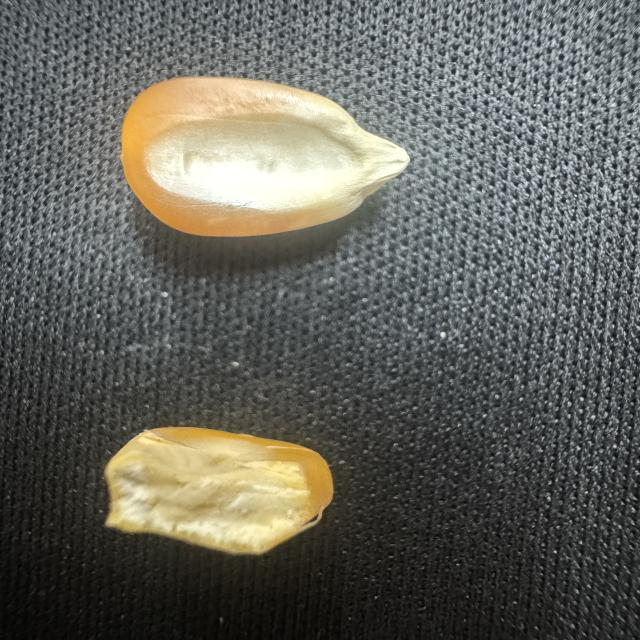Bad-Seed: (98, 425, 340, 558)
Good-Seed: (117, 72, 414, 245)
